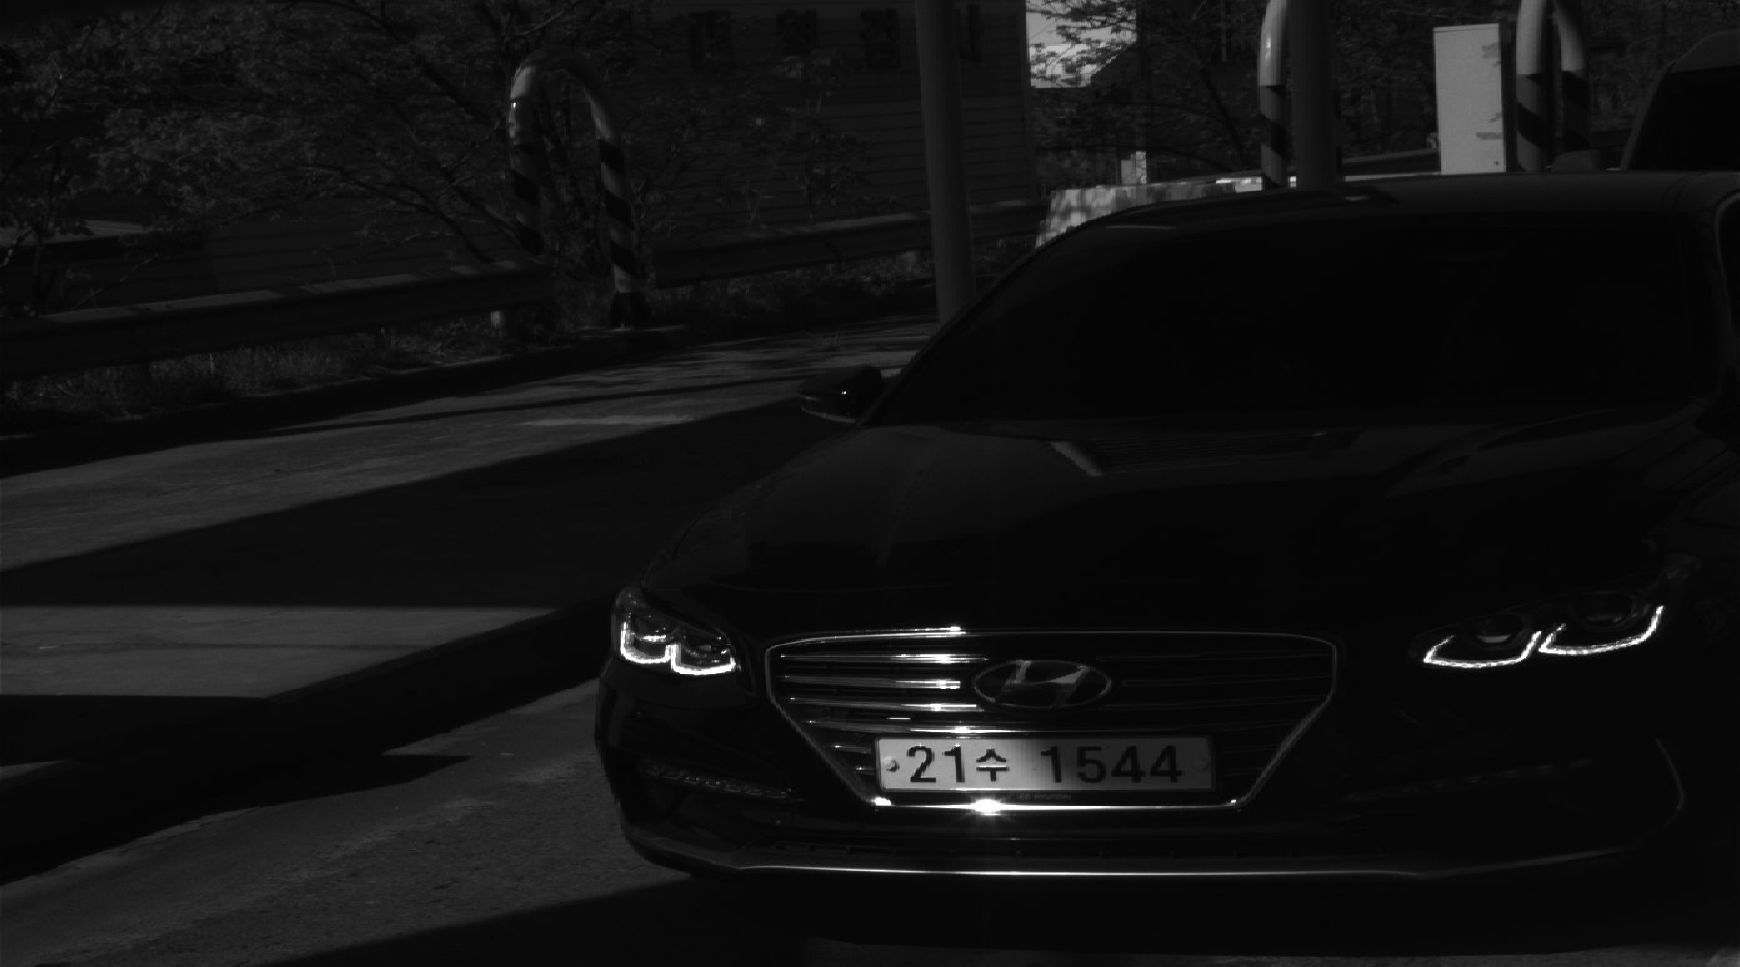car: (591, 164, 1740, 967)
plate: (865, 729, 1222, 797)
